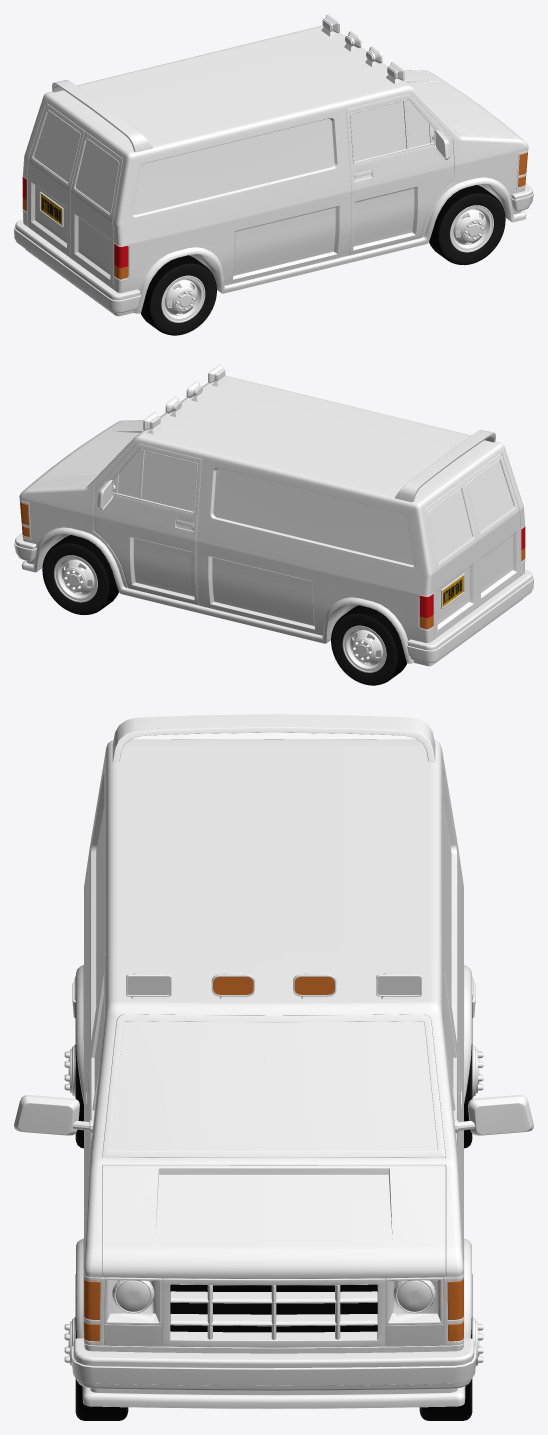
The model's file is SKM_Van_Taurus_Cargo.obj.
3 views of the same model, one above another, from view 1: azimuth 30°, elevation 25°; view 2: azimuth 150°, elevation 25°; view 3: azimuth 270°, elevation 25° (orthographic). The views are drawn at different scales.
Parts seen in each view (by area): view 1: SKM_Van_Taurus_Cargo_MI_CarPaint_DarkBlue, SKM_Van_Taurus_Cargo_M_Windshield, SKM_Van_Taurus_Cargo_M_Gray_Color, SKM_Van_Taurus_Cargo_M_TireSide, SKM_Van_Taurus_Cargo_M_Tire, SKM_Van_Taurus_Cargo_M_Black_Color, SKM_Van_Taurus_Cargo_M_Right_SingLight, SKM_Van_Taurus_Cargo_M_RedLight; view 2: SKM_Van_Taurus_Cargo_MI_CarPaint_DarkBlue, SKM_Van_Taurus_Cargo_M_Windshield, SKM_Van_Taurus_Cargo_M_Gray_Color, SKM_Van_Taurus_Cargo_M_TireSide, SKM_Van_Taurus_Cargo_M_Tire, SKM_Van_Taurus_Cargo_M_Black_Color, SKM_Van_Taurus_Cargo_M_Left_SingLight, SKM_Van_Taurus_Cargo_M_RedLight; view 3: SKM_Van_Taurus_Cargo_MI_CarPaint_DarkBlue, SKM_Van_Taurus_Cargo_M_Windshield, SKM_Van_Taurus_Cargo_M_Gray_Color, SKM_Van_Taurus_Cargo_M_FrontLight, SKM_Van_Taurus_Cargo_M_VentGrid, SKM_Van_Taurus_Cargo_M_Tire, SKM_Van_Taurus_Cargo_M_Left_SingLight, SKM_Van_Taurus_Cargo_M_Black_Color, SKM_Van_Taurus_Cargo_M_Right_SingLight, SKM_Van_Taurus_Cargo_M_TireSide.
Part boxes in pixels (x1,y1,x2,y2): SKM_Van_Taurus_Cargo_MI_CarPaint_DarkBlue: [14, 14, 533, 316]; SKM_Van_Taurus_Cargo_M_Windshield: [34, 100, 430, 213]; SKM_Van_Taurus_Cargo_M_Gray_Color: [15, 150, 532, 322]; SKM_Van_Taurus_Cargo_M_TireSide: [150, 193, 505, 334]; SKM_Van_Taurus_Cargo_M_Tire: [141, 185, 505, 335]; SKM_Van_Taurus_Cargo_M_Black_Color: [23, 93, 522, 316]; SKM_Van_Taurus_Cargo_M_Right_SingLight: [114, 152, 527, 279]; SKM_Van_Taurus_Cargo_M_RedLight: [22, 176, 128, 267]; SKM_Van_Taurus_Cargo_MI_CarPaint_DarkBlue: [14, 364, 533, 666]; SKM_Van_Taurus_Cargo_M_Windshield: [117, 450, 513, 563]; SKM_Van_Taurus_Cargo_M_Gray_Color: [15, 500, 532, 672]; SKM_Van_Taurus_Cargo_M_TireSide: [42, 543, 397, 684]; SKM_Van_Taurus_Cargo_M_Tire: [42, 535, 406, 685]; SKM_Van_Taurus_Cargo_M_Black_Color: [25, 443, 524, 666]; SKM_Van_Taurus_Cargo_M_Left_SingLight: [20, 502, 433, 629]; SKM_Van_Taurus_Cargo_M_RedLight: [419, 526, 525, 617]; SKM_Van_Taurus_Cargo_MI_CarPaint_DarkBlue: [14, 714, 533, 1408]; SKM_Van_Taurus_Cargo_M_Windshield: [94, 996, 453, 1150]; SKM_Van_Taurus_Cargo_M_Gray_Color: [64, 976, 483, 1390]; SKM_Van_Taurus_Cargo_M_FrontLight: [104, 977, 443, 1346]; SKM_Van_Taurus_Cargo_M_VentGrid: [170, 1284, 377, 1332]; SKM_Van_Taurus_Cargo_M_Tire: [77, 1066, 470, 1420]; SKM_Van_Taurus_Cargo_M_Left_SingLight: [213, 977, 463, 1341]; SKM_Van_Taurus_Cargo_M_Black_Color: [84, 954, 463, 1408]; SKM_Van_Taurus_Cargo_M_Right_SingLight: [84, 1278, 100, 1341]; SKM_Van_Taurus_Cargo_M_TireSide: [75, 1002, 472, 1416].
Bounding box in the file's own units: 4.95 × 2.23 × 2.7.
Materials: 18 (13 with a texture image).
